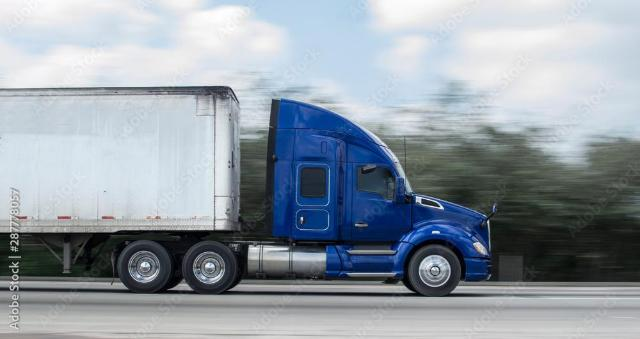truck: (53, 77, 497, 299)
